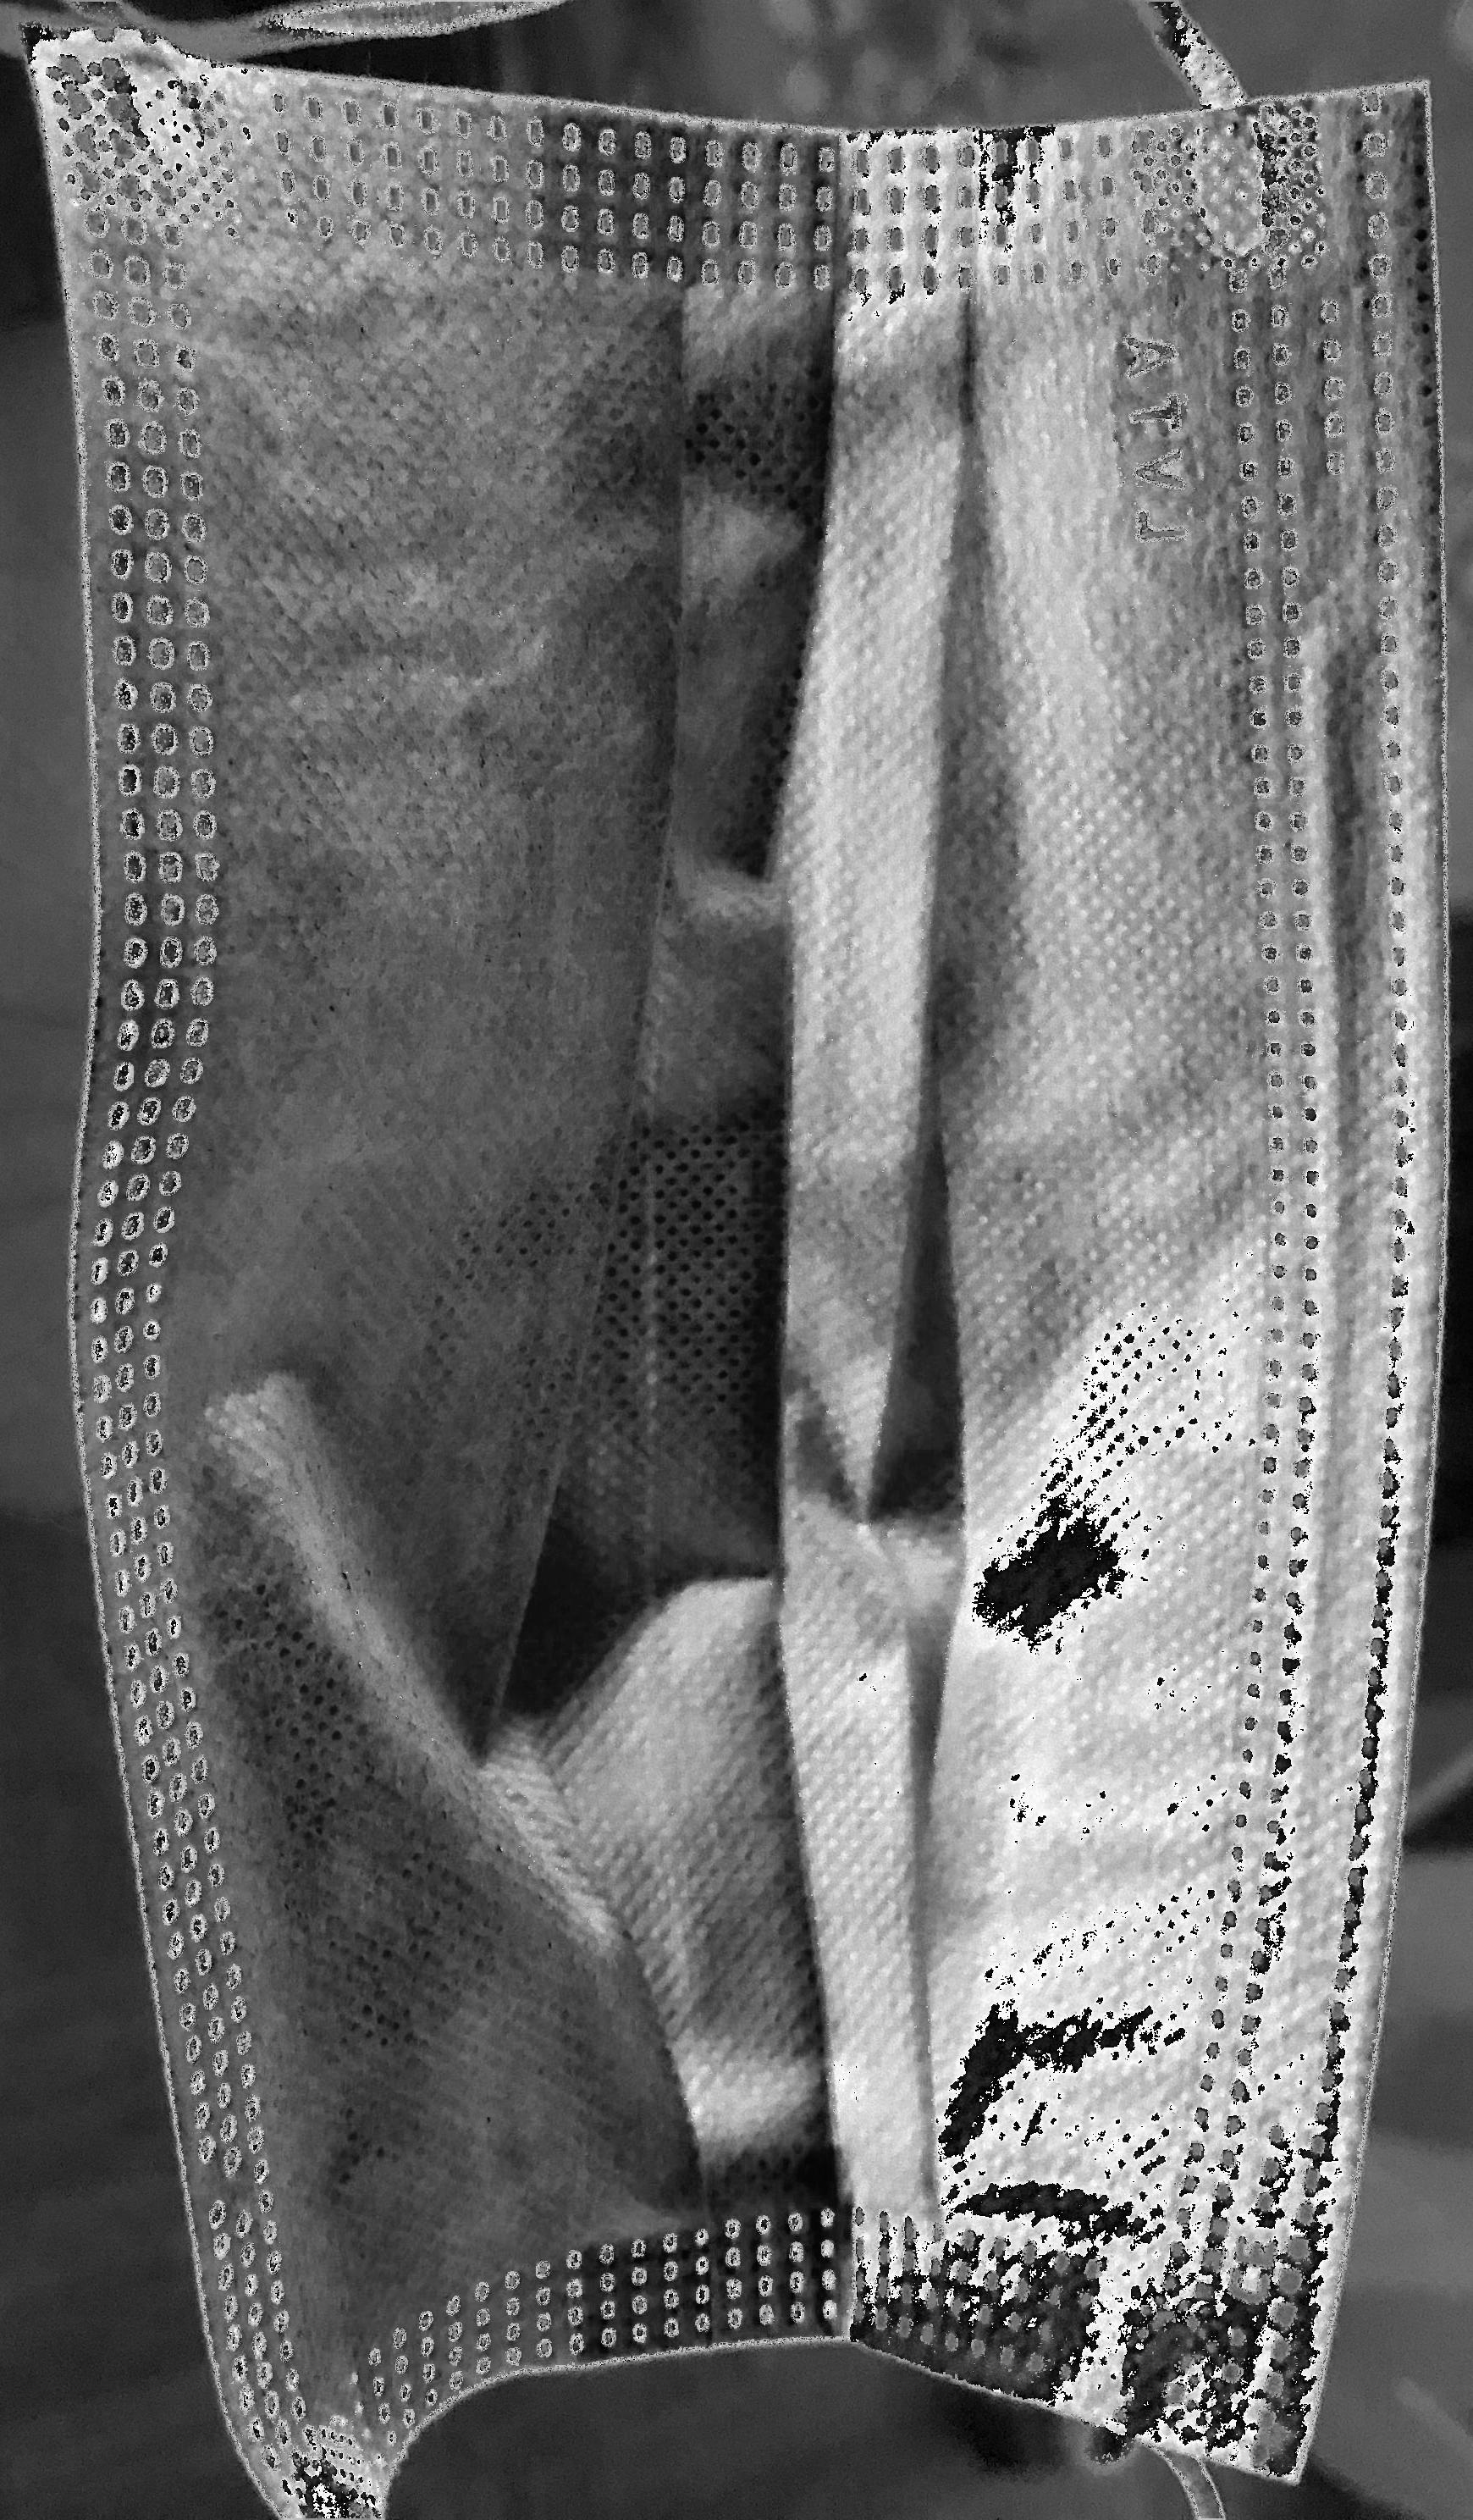High GSM: (833, 388, 1168, 2215)
Undefined Area: (0, 1722, 270, 2448)
